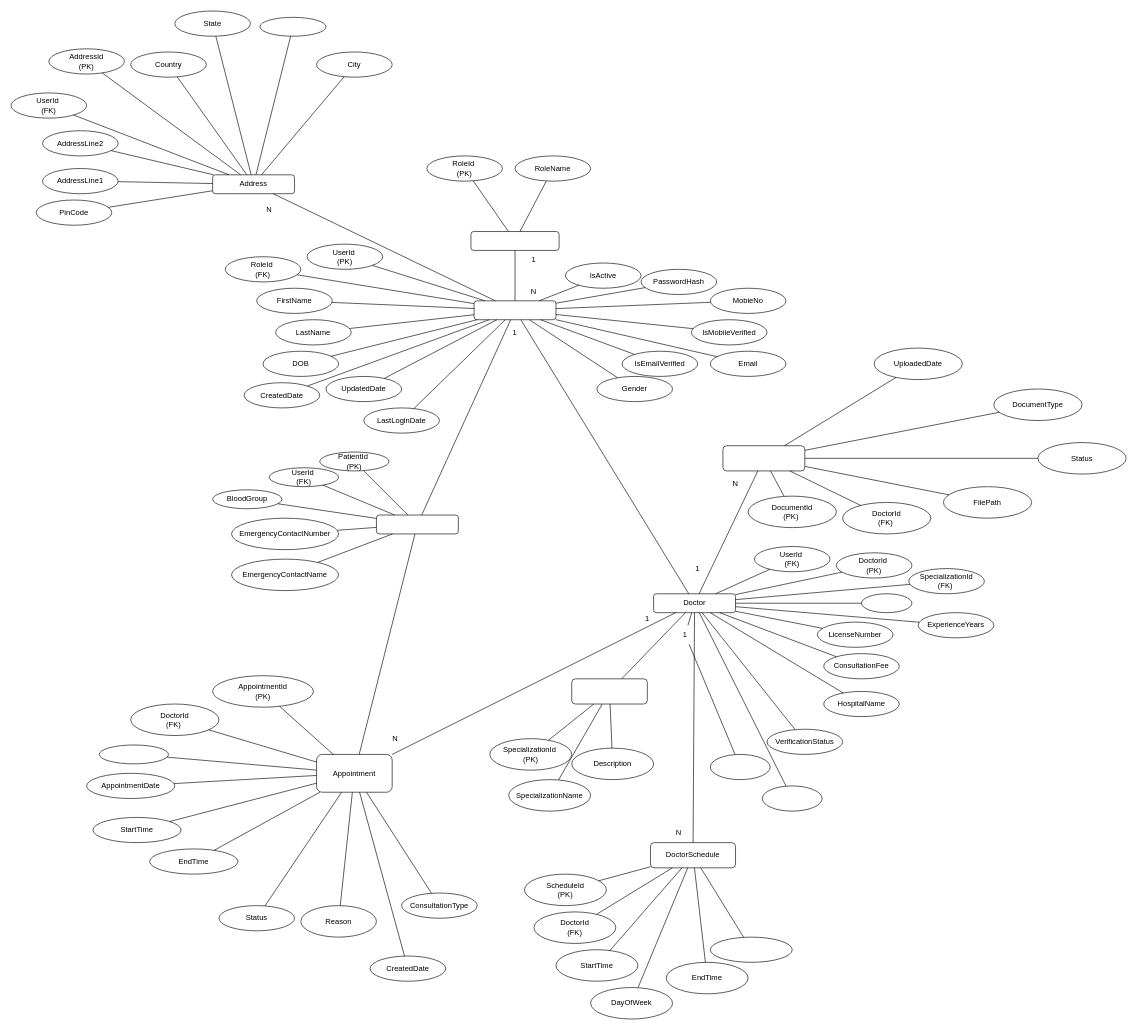
The diagram is 1137 pixels wide and 1030 high, and some of its shapes have lost their labels. Here are the shapes that lost their labels. From the top down, the centre of each, then its label:
At point 292,26: "Area".
At point 514,240: "Roles".
At point 514,310: "Users".
At point 763,458: "DoctorDocuments".
At point 417,524: "Patient".
At point 886,603: "Qualification".
At point 609,691: "Specialization".
At point 134,754: "PatientId (FK)".
At point 740,767: "AboutDoctor".
At point 792,798: "ProfileImage".
At point 751,949: "IsAvailable".
